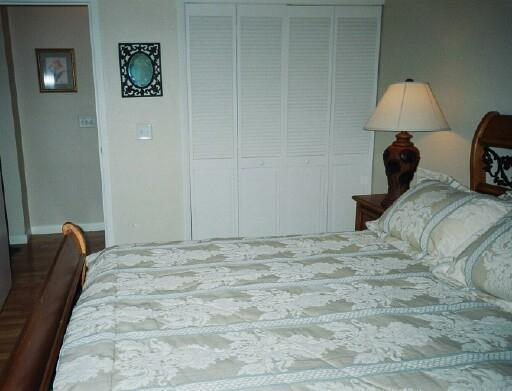Armario: (181, 4, 369, 231)
Cama: (8, 116, 510, 389)
